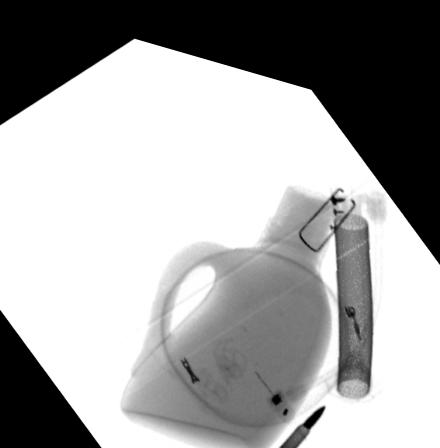Bullet: (270, 383, 325, 445)
